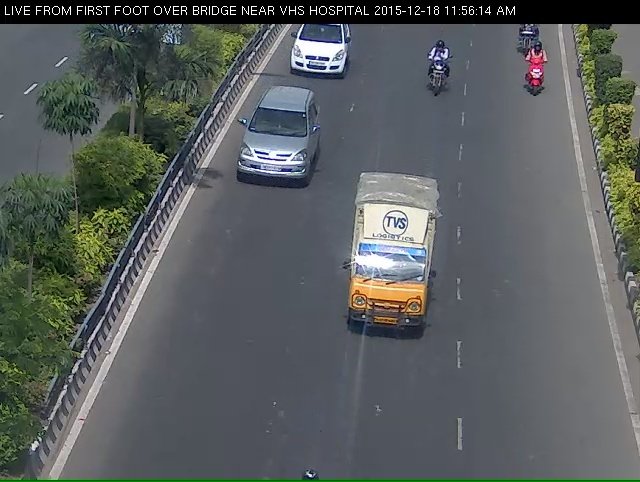Car: (345, 184, 435, 359), (229, 106, 312, 208), (280, 23, 360, 90)
Person: (424, 48, 449, 105), (526, 50, 550, 109), (509, 19, 537, 61)
